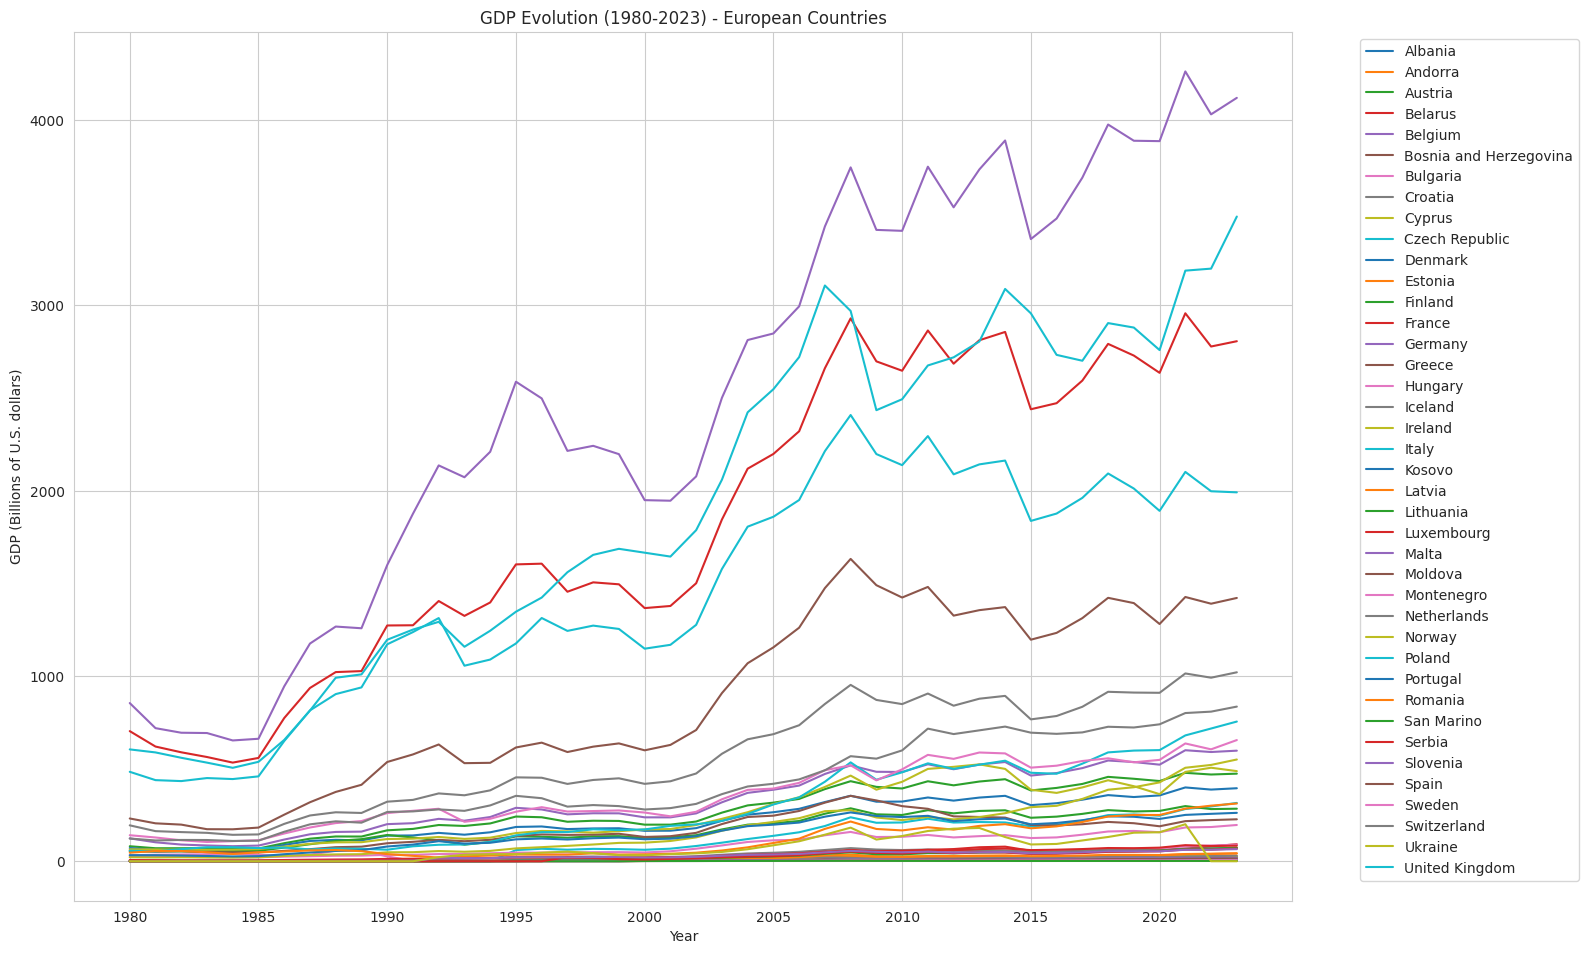

The page's visual inventory and layout, read from the dashboard file:
{"tool":"tableau","page":{"name":"European_GDP_Evolution","canvas":[1000,800],"ordinal":5},"visuals":[{"type":"image","param":"/Users/David/Desktop/Final_Project_DI/Europe_GDP_Evolution.png","box":[8,8,984,784]}]}

Visuals, with their boxes on the page's 1000x800 design canvas (x1, y1, x2, y2). These are canvas units, not pixel positions in the 1588x954 screenshot, which may show the page scaled, cropped or inside an application window:
image: BBox(8, 8, 992, 792)
